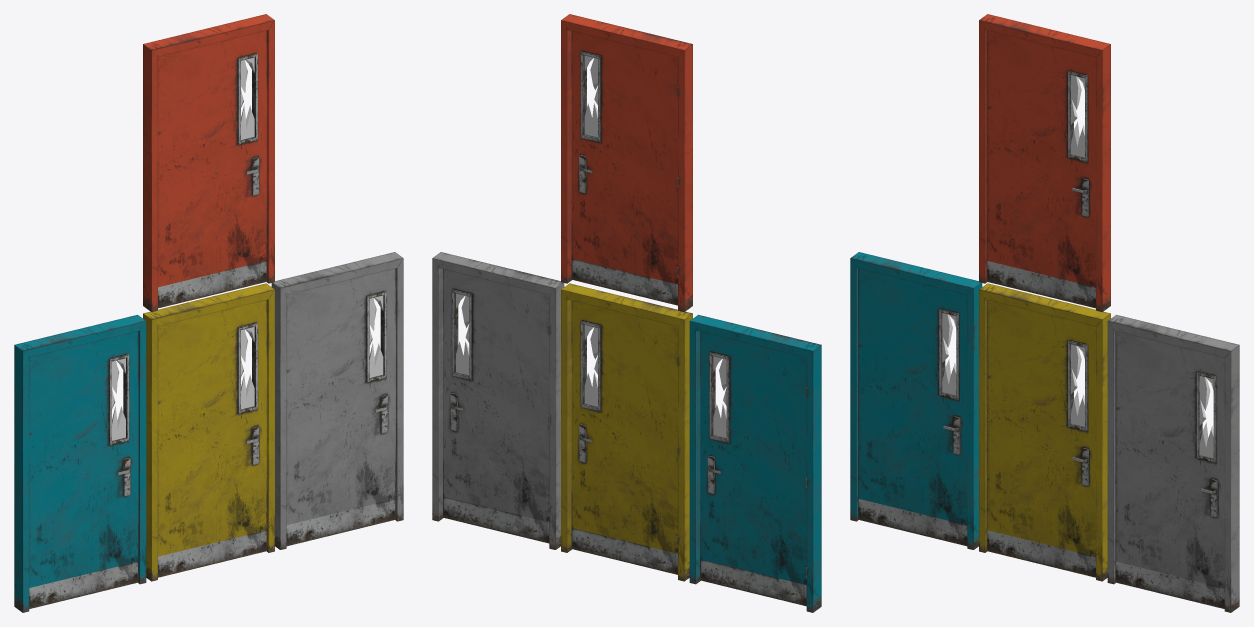
File: DoorsPack1.fbx
3 renders of one model, left to right at view 1: azimuth 30°, elevation 25°; view 2: azimuth 150°, elevation 25°; view 3: azimuth 330°, elevation 25°, orthographic.
Visible parts, largest first — view 1: SM_Door_A_Grey.mo, SM_Door_A_Blue.mo, SM_Door_A_Red.mo, SM_Door_A_Yellow.mo, SM_Frame_Metal_ABlue.mo, SM_Frame_Metal_ARed.mo, SM_Frame_Metal_AGrey.mo, SM_Frame_Metal_AYellow.mo; view 2: SM_Door_A_Red.mo, SM_Door_A_Yellow.mo, SM_Door_A_Grey.mo, SM_Door_A_Blue.mo, SM_Frame_Metal_ABlue.mo, SM_Frame_Metal_ARed.mo, SM_Frame_Metal_AGrey.mo, SM_Frame_Metal_AYellow.mo; view 3: SM_Door_A_Grey.mo, SM_Door_A_Blue.mo, SM_Door_A_Yellow.mo, SM_Door_A_Red.mo, SM_Frame_Metal_AGrey.mo, SM_Frame_Metal_ARed.mo, SM_Frame_Metal_ABlue.mo, SM_Frame_Metal_AYellow.mo.
Boxes of the visible parts, box(x1,y1,x2,y2) form: SM_Door_A_Grey.mo: box(286, 268, 395, 546); SM_Door_A_Blue.mo: box(29, 331, 138, 608); SM_Door_A_Red.mo: box(158, 30, 267, 308); SM_Door_A_Yellow.mo: box(158, 300, 267, 577); SM_Frame_Metal_ABlue.mo: box(14, 314, 146, 612); SM_Frame_Metal_ARed.mo: box(143, 14, 274, 312); SM_Frame_Metal_AGrey.mo: box(271, 252, 403, 549); SM_Frame_Metal_AYellow.mo: box(143, 283, 274, 581); SM_Door_A_Red.mo: box(571, 31, 677, 305); SM_Door_A_Yellow.mo: box(571, 300, 677, 574); SM_Door_A_Grey.mo: box(443, 269, 549, 543); SM_Door_A_Blue.mo: box(700, 332, 806, 606); SM_Frame_Metal_ABlue.mo: box(689, 314, 821, 612); SM_Frame_Metal_ARed.mo: box(561, 14, 692, 312); SM_Frame_Metal_AGrey.mo: box(432, 252, 564, 549); SM_Frame_Metal_AYellow.mo: box(561, 283, 692, 581); SM_Door_A_Grey.mo: box(1115, 331, 1224, 608); SM_Door_A_Blue.mo: box(858, 268, 967, 546); SM_Door_A_Yellow.mo: box(986, 300, 1095, 577); SM_Door_A_Red.mo: box(986, 30, 1095, 308); SM_Frame_Metal_AGrey.mo: box(1107, 314, 1239, 612); SM_Frame_Metal_ARed.mo: box(979, 14, 1110, 312); SM_Frame_Metal_ABlue.mo: box(850, 252, 982, 549); SM_Frame_Metal_AYellow.mo: box(979, 283, 1110, 581).
Size of the model in its own units: 385 by 513 by 18.12.
